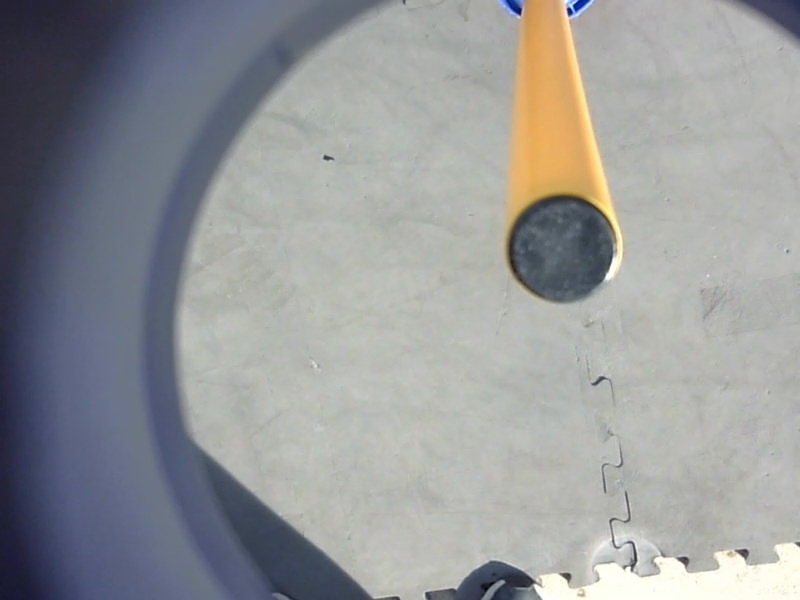tip: (500, 187, 629, 310)
